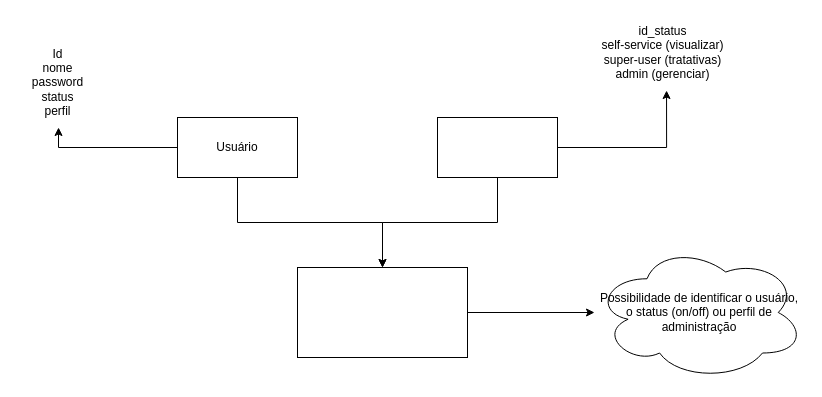
Image size: 822x397. Some labels were removed from this diagram. The box of each missing label's shape, as (x1, y1, x2, y2) in pixels:
Id do Usário Status Perfil: (296, 266, 468, 358)
Perfil: (436, 116, 558, 178)
